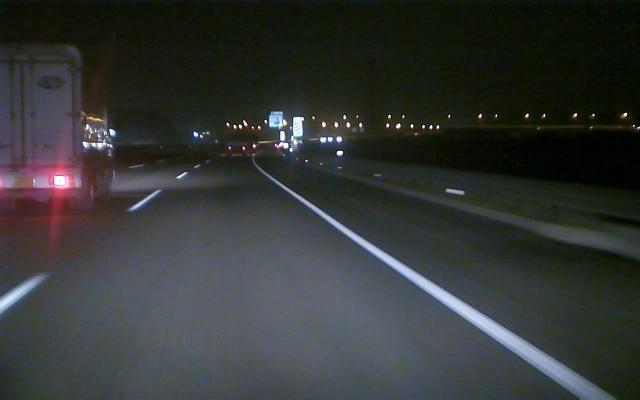lane: (271, 178, 616, 398), (1, 188, 164, 313)
